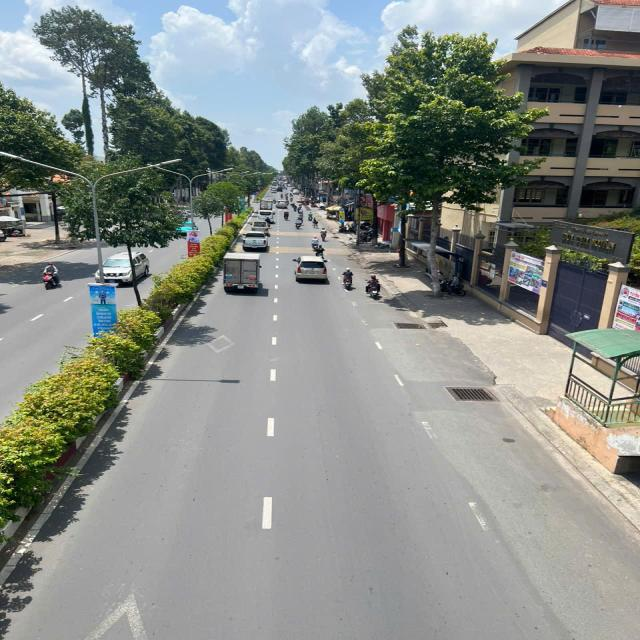Truck: (220, 248, 265, 294), (258, 197, 276, 215)
car: (96, 249, 152, 286), (292, 253, 332, 285), (239, 229, 271, 254), (248, 218, 273, 234), (258, 208, 276, 226)
motobyte: (40, 259, 63, 292), (362, 272, 385, 302), (338, 265, 357, 291), (312, 243, 329, 264), (310, 232, 324, 251), (318, 226, 330, 242), (294, 214, 304, 230), (282, 207, 293, 221), (307, 210, 316, 223)
